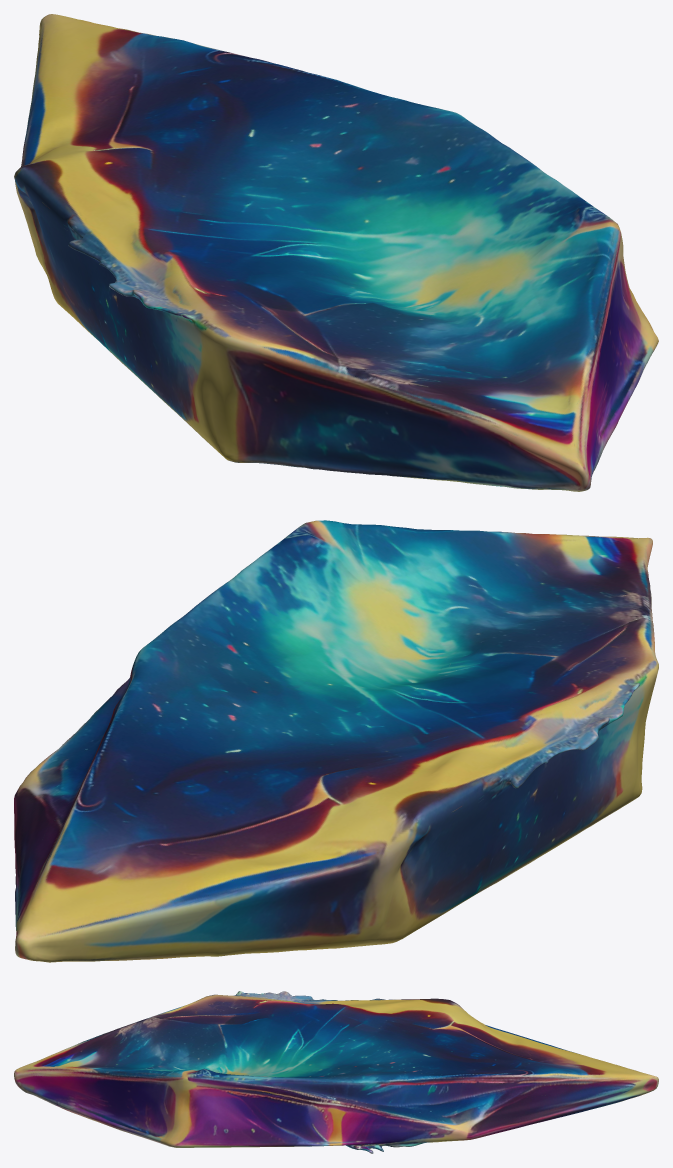
File: piece of memory.fbx
3 views of the same model, one above another, from view 1: azimuth 30°, elevation 25°; view 2: azimuth 150°, elevation 25°; view 3: azimuth 270°, elevation 25° (orthographic). The views are drawn at different scales.
Visible parts, largest first — view 1: tripo_node_ccc69807; view 2: tripo_node_ccc69807; view 3: tripo_node_ccc69807.
Boxes of the visible parts, <box> form: tripo_node_ccc69807: <box>14,14,658,491</box>; tripo_node_ccc69807: <box>14,520,658,962</box>; tripo_node_ccc69807: <box>14,991,658,1153</box>.
Size of the model in its own units: 42.68 by 17.19 by 99.9.
1 material, 1 textured.
